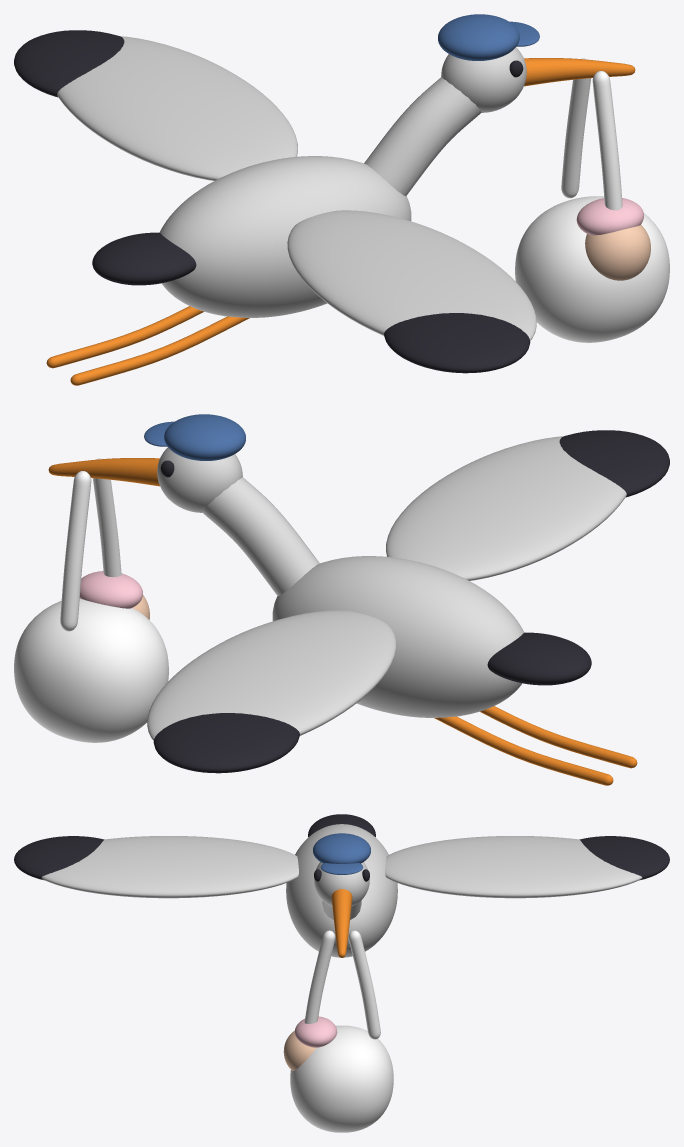
The model's file is ciguena.glb.
The picture shows the model from 3 angles, top to bottom: view 1: azimuth 30°, elevation 25°; view 2: azimuth 150°, elevation 25°; view 3: azimuth 270°, elevation 25°; orthographic projection. The views are drawn at different scales.
Parts seen in each view (by area): view 1: cuerpo cigüeña, ala.001, ala, pañuelo, punta ala, cuello cigüeña, punta ala.001, cola cigüeña, cabeza cigüeña, gorra, cabeza en pañuelo, nudo pañuelo (+5 smaller); view 2: cuerpo cigüeña, ala, ala.001, pañuelo, punta ala.001, cuello cigüeña, punta ala, cola cigüeña, cabeza cigüeña, gorra, nudo pañuelo.001, pata cigüeña.001 (+4 smaller); view 3: ala.001, ala, pañuelo, cuerpo cigüeña, punta ala, punta ala.001, gorra, nudo pañuelo.001, cabeza cigüeña, nudo pañuelo, pico cigüeña, gorrito (+2 smaller).
Boxes of the visible parts, x1,y1,x2,y2 form: cuerpo cigüeña: [159, 156, 411, 317]; ala.001: [57, 36, 297, 180]; ala: [287, 210, 536, 340]; pañuelo: [515, 196, 669, 342]; punta ala: [384, 313, 530, 373]; cuello cigüeña: [364, 77, 481, 195]; punta ala.001: [14, 30, 124, 97]; cola cigüeña: [92, 232, 196, 285]; cabeza cigüeña: [441, 47, 526, 112]; gorra: [438, 14, 519, 60]; cabeza en pañuelo: [585, 225, 650, 280]; nudo pañuelo: [592, 71, 622, 210]; cuerpo cigüeña: [272, 556, 524, 717]; ala: [386, 436, 626, 580]; ala.001: [147, 610, 396, 740]; pañuelo: [14, 598, 168, 742]; punta ala.001: [153, 713, 299, 773]; cuello cigüeña: [202, 477, 319, 595]; punta ala: [559, 430, 669, 497]; cola cigüeña: [487, 632, 591, 685]; cabeza cigüeña: [157, 447, 242, 512]; gorra: [164, 414, 245, 460]; nudo pañuelo.001: [60, 471, 91, 631]; pata cigüeña.001: [434, 716, 613, 785]; ala.001: [385, 836, 642, 898]; ala: [41, 836, 298, 898]; pañuelo: [290, 1025, 393, 1132]; cuerpo cigüeña: [286, 824, 397, 957]; punta ala: [14, 836, 104, 880]; punta ala.001: [579, 836, 669, 880]; gorra: [313, 833, 370, 863]; nudo pañuelo.001: [348, 930, 380, 1039]; cabeza cigüeña: [314, 862, 369, 906]; nudo pañuelo: [304, 930, 335, 1023]; pico cigüeña: [331, 889, 352, 957]; gorrito: [294, 1016, 337, 1047].
Bounding box in the file's own units: 1.16 × 0.6292 × 1.51.
